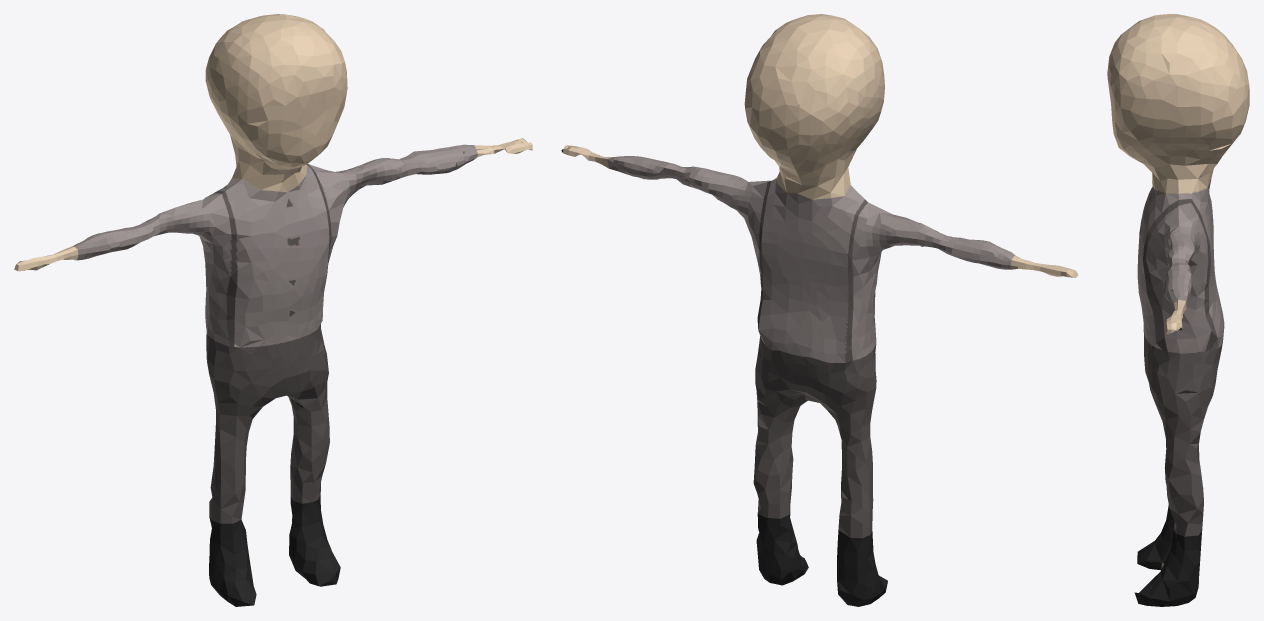
Rendered from boy_4.fbx.
The picture shows the model from 3 angles, left to right: view 1: azimuth 30°, elevation 25°; view 2: azimuth 150°, elevation 25°; view 3: azimuth 270°, elevation 25°; orthographic projection.
Parts seen in each view (by area): view 1: boy_.004; view 2: boy_.004; view 3: boy_.004.
Boxes of the visible parts, left/top/right/bottom form: boy_.004: left=14, top=14, right=532, bottom=606; boy_.004: left=561, top=14, right=1078, bottom=606; boy_.004: left=1107, top=14, right=1249, bottom=606.
Bounding box in the file's own units: 328 × 346 × 78.8.
Materials: 1 (1 with a texture image).
